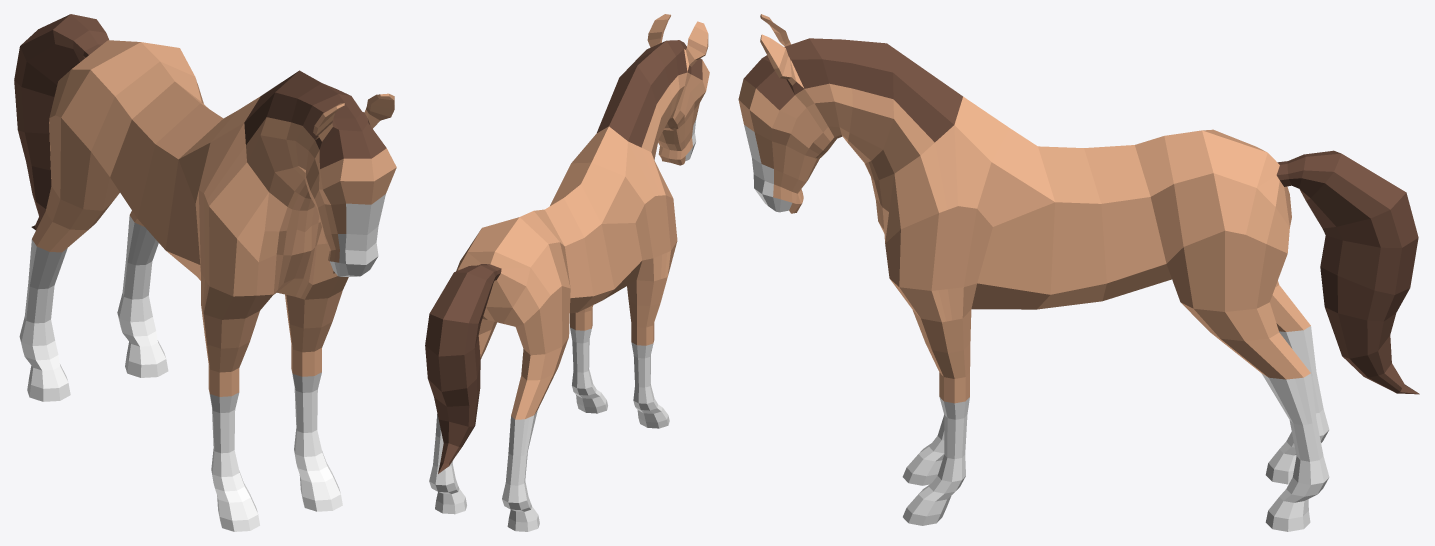
Rendered from Horse.fbx.
The picture shows the model from 3 angles, left to right: view 1: azimuth 30°, elevation 25°; view 2: azimuth 150°, elevation 25°; view 3: azimuth 270°, elevation 25°; orthographic projection. The views are drawn at different scales.
Parts seen in each view (by area): view 1: Cylinder, Front Left Leg, Back Right Leg, Front Right Leg, Back Left Leg; view 2: Cylinder, Back Right Leg, Front Right Leg, Front Left Leg, Back Left Leg; view 3: Cylinder, Back Left Leg, Front Left Leg, Back Right Leg, Front Right Leg.
Part boxes in pixels (bbox=[...]): Cylinder: bbox=[14, 14, 396, 319]; Front Left Leg: bbox=[285, 276, 348, 511]; Back Right Leg: bbox=[19, 186, 111, 401]; Front Right Leg: bbox=[201, 305, 259, 531]; Back Left Leg: bbox=[117, 211, 168, 377]; Cylinder: bbox=[425, 14, 709, 473]; Back Right Leg: bbox=[502, 337, 568, 531]; Front Right Leg: bbox=[627, 277, 669, 428]; Front Left Leg: bbox=[570, 305, 607, 413]; Back Left Leg: bbox=[429, 322, 496, 514]; Cylinder: bbox=[738, 14, 1419, 394]; Back Left Leg: bbox=[1181, 302, 1329, 531]; Front Left Leg: bbox=[890, 279, 976, 525]; Back Right Leg: bbox=[1265, 281, 1329, 484]; Front Right Leg: bbox=[902, 415, 944, 485].
Size of the model in its own units: 216 by 709 by 927.
